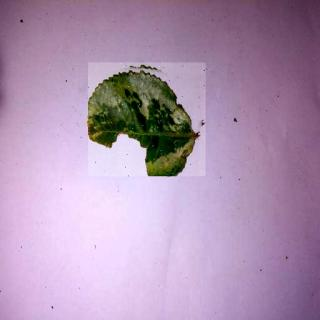Anthracnose: (90, 64, 208, 178)
